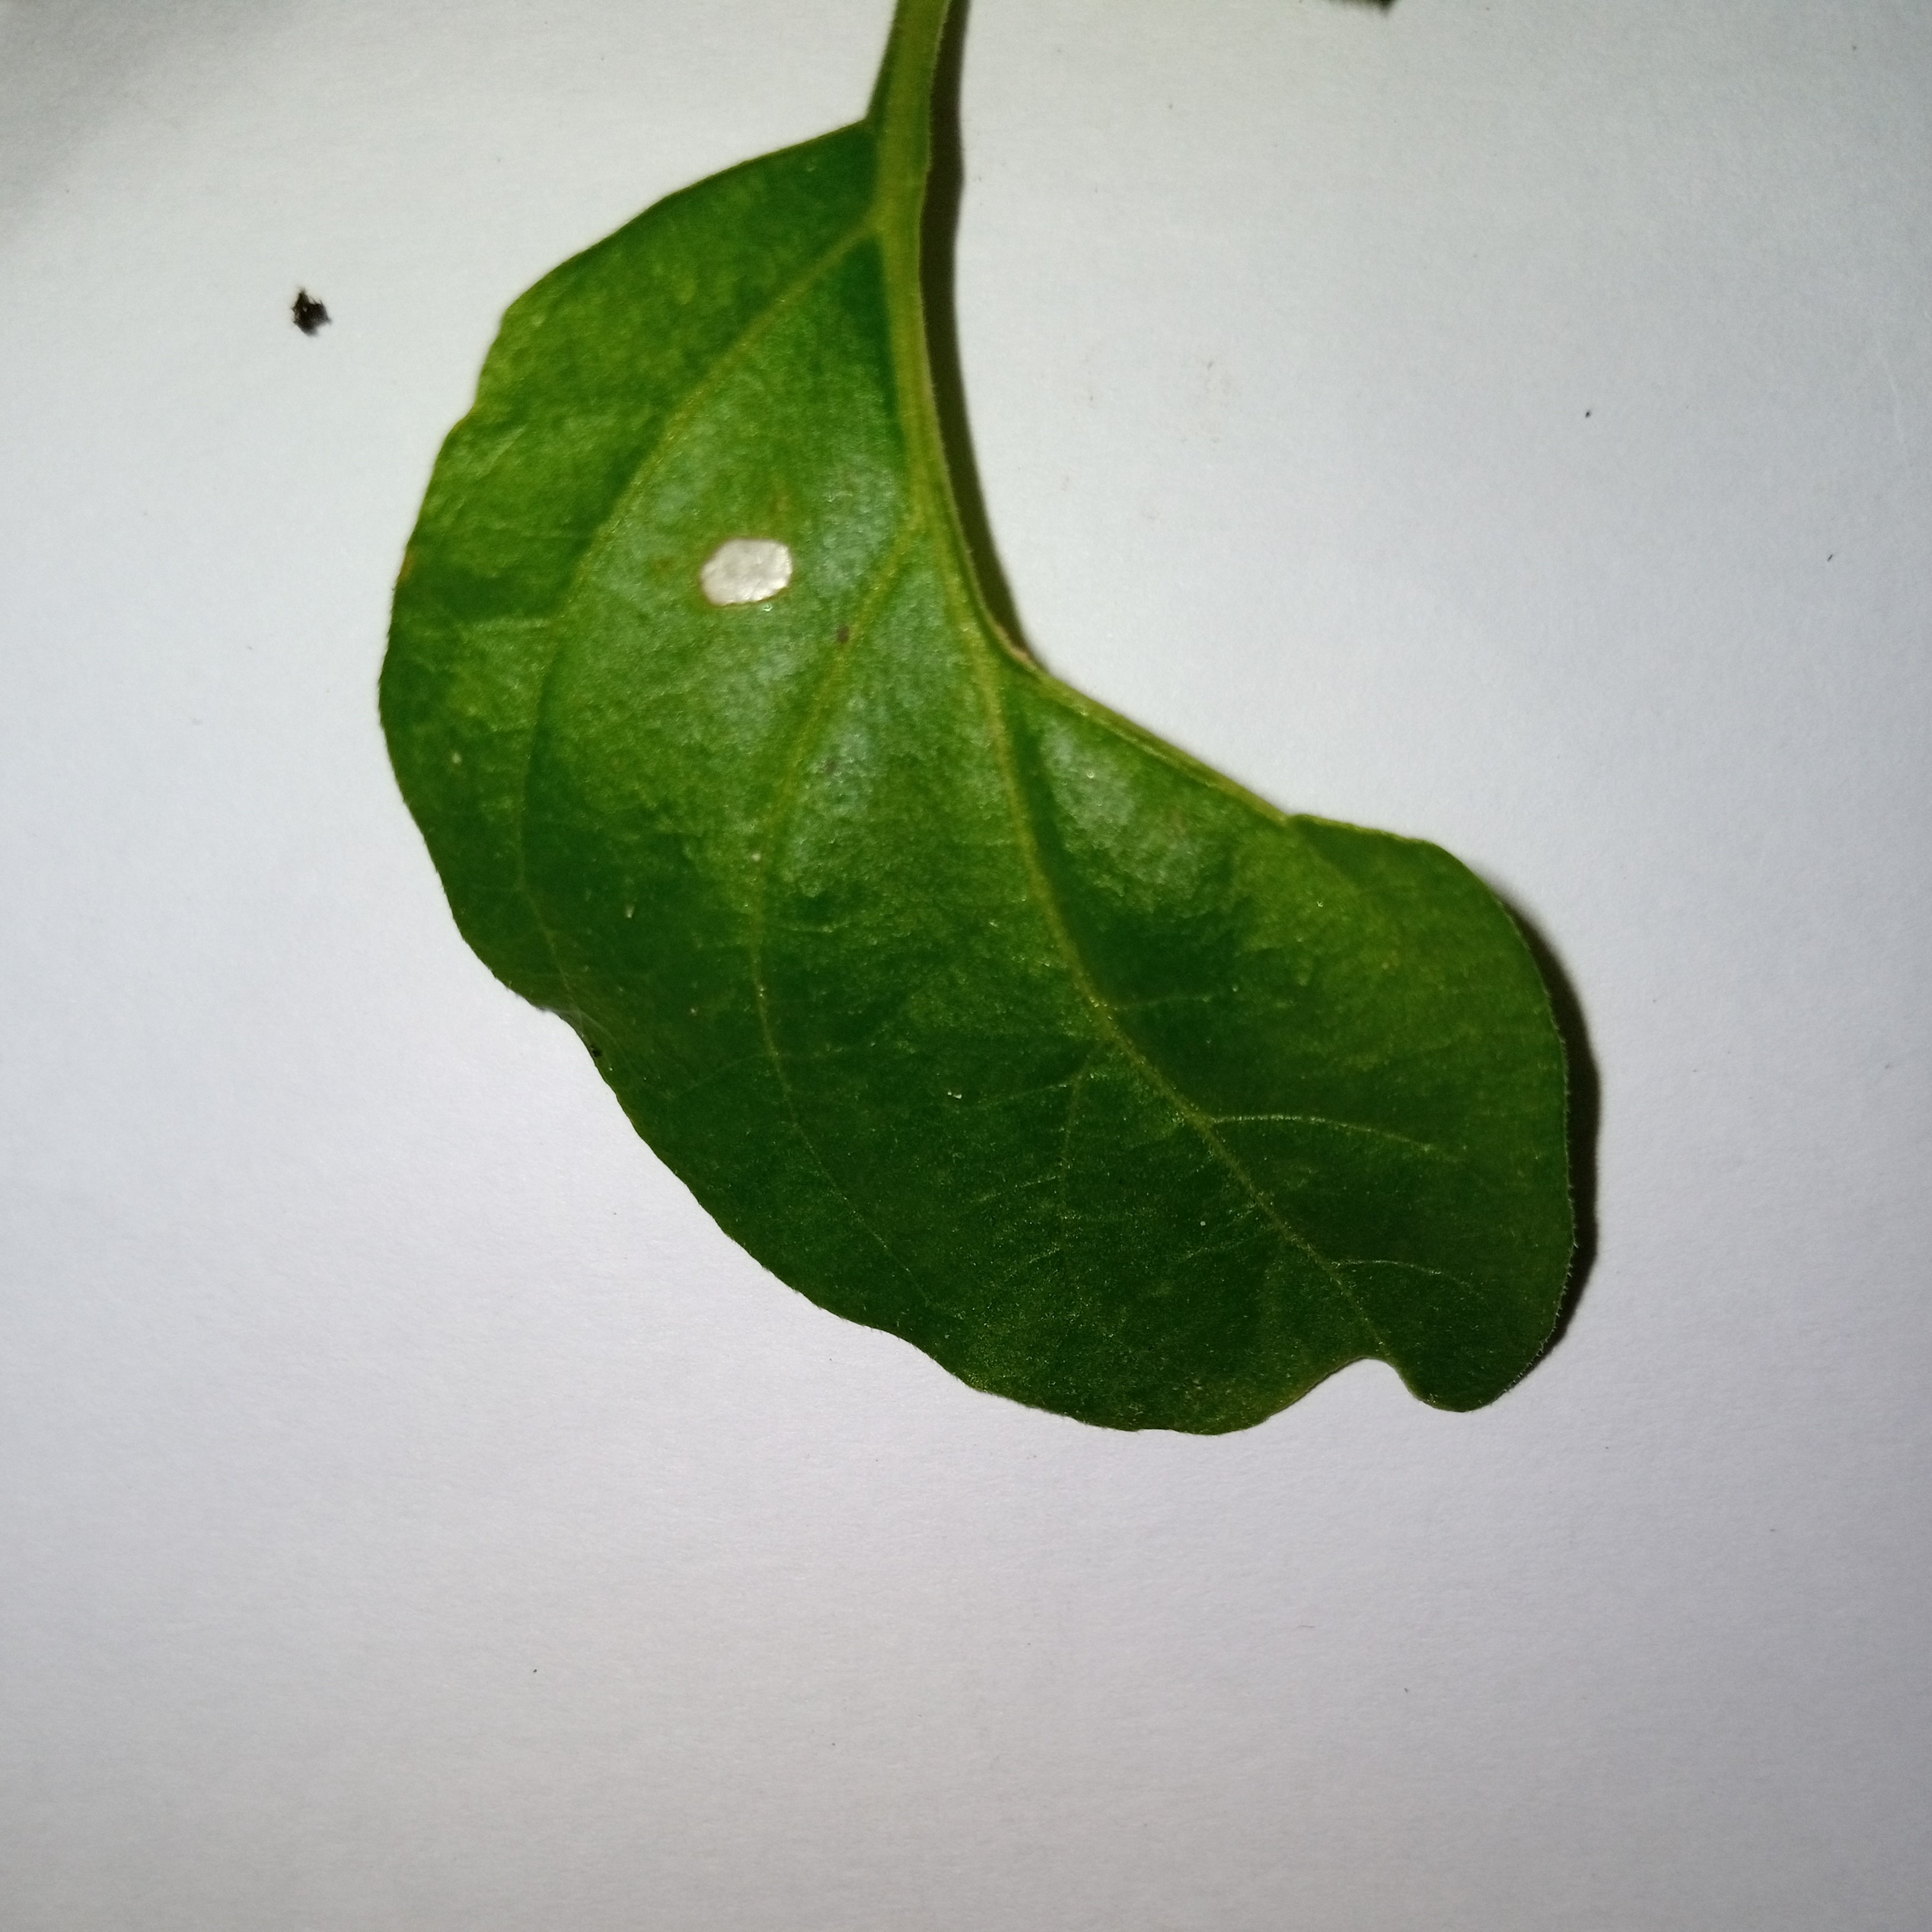Leaf: (329, 50, 1787, 1638)
